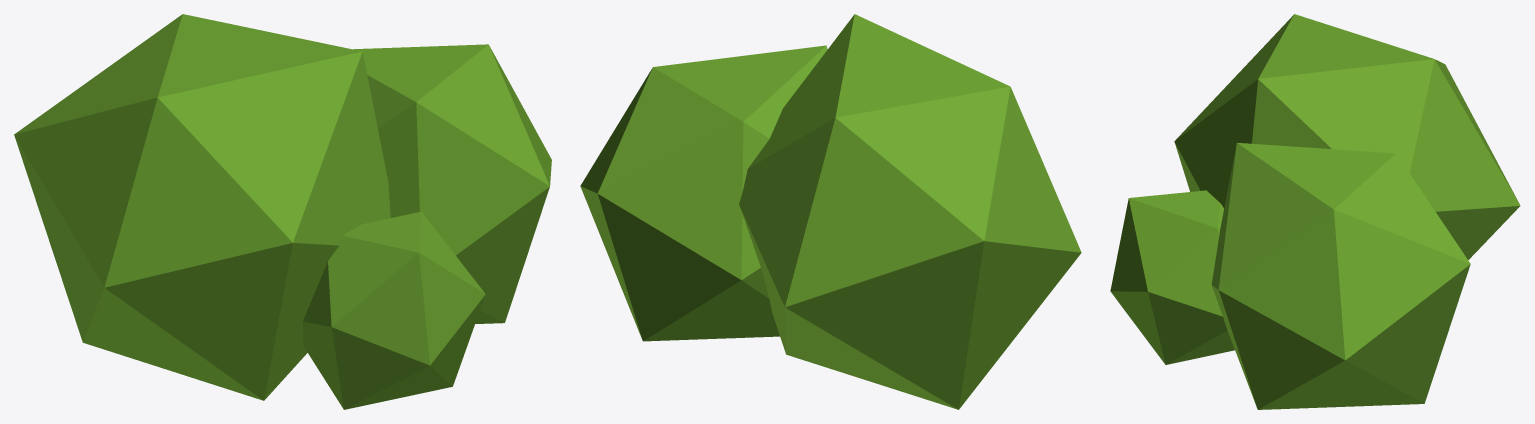
Rendered from Bush1.fbx.
The picture shows the model from 3 angles, left to right: view 1: azimuth 30°, elevation 25°; view 2: azimuth 150°, elevation 25°; view 3: azimuth 270°, elevation 25°; orthographic projection. The views are drawn at different scales.
Visible parts, largest first — view 1: Cube.013; view 2: Cube.013; view 3: Cube.013.
Part boxes in pixels (<box>): Cube.013: <box>14,14,551,409</box>; Cube.013: <box>580,14,1081,409</box>; Cube.013: <box>1110,14,1520,409</box>.
Size of the model in its own units: 150 by 90.07 by 124.
